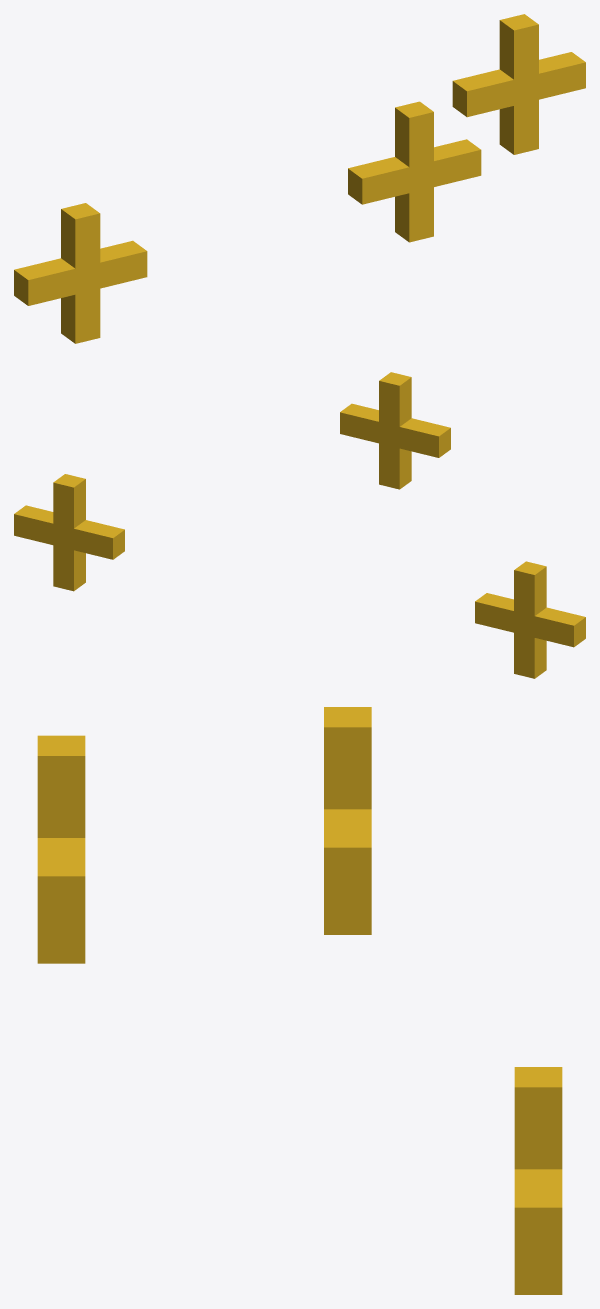
The model's file is fx_stars.glb.
3 renders of one model, top to bottom at view 1: azimuth 30°, elevation 25°; view 2: azimuth 150°, elevation 25°; view 3: azimuth 270°, elevation 25°, orthographic. The views are drawn at different scales.
Visible parts, largest first — view 1: fx_stars; view 2: fx_stars; view 3: fx_stars.
Boxes of the visible parts, bbox=[...] form: fx_stars: bbox=[14, 14, 585, 343]; fx_stars: bbox=[14, 372, 585, 678]; fx_stars: bbox=[37, 707, 562, 1294].
Size of the model in its own units: 0.62 by 0.22 by 0.275.
1 material, 1 textured.
